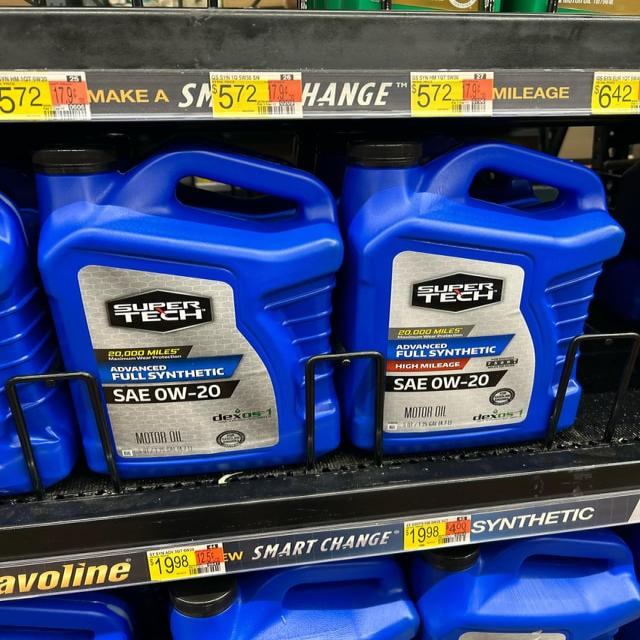motor_oil: (30, 140, 344, 471), (348, 136, 631, 444)
